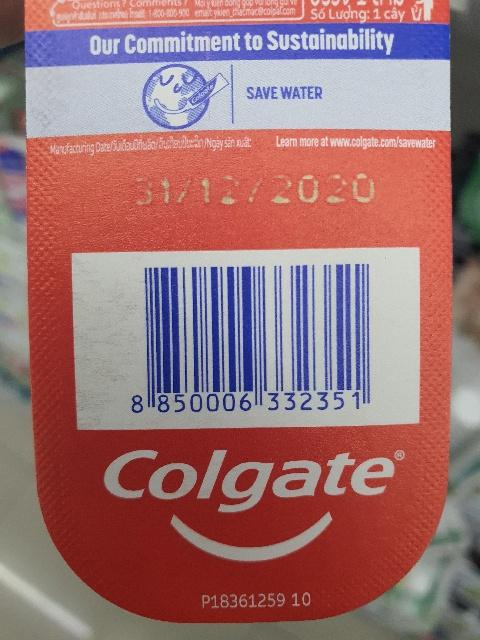Barcode: (121, 257, 389, 419)
